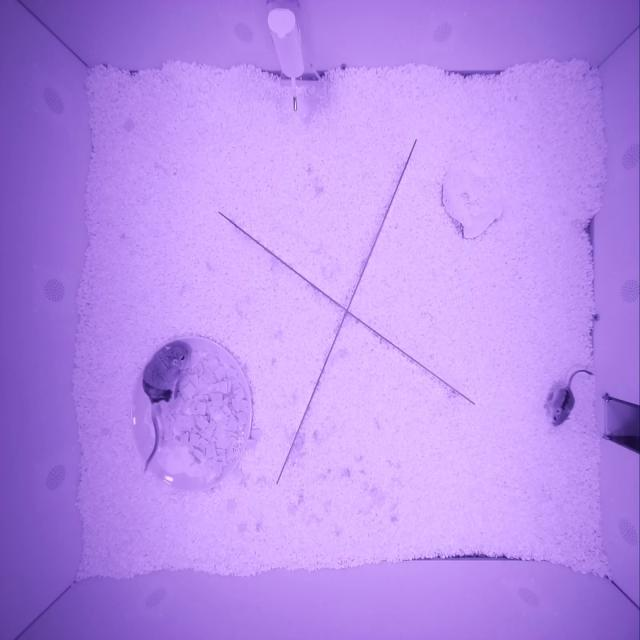adult_back: (142, 347, 189, 407)
pup_v_stripe: (551, 387, 575, 428)
